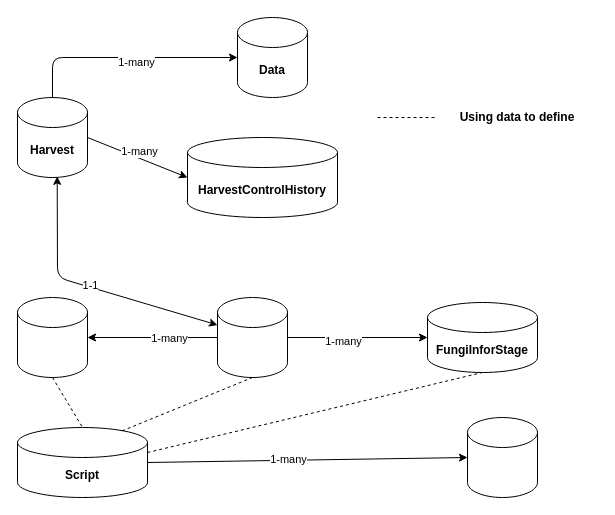
Some shapes in this 615 by 515 pixel diagram are drawn without their labels. Here are the shapes that lost their labels. From the top down, the box of each, then its label:
(16, 296, 88, 378): Disease
(216, 296, 288, 378): FungiInfor
(466, 416, 538, 498): Rule
